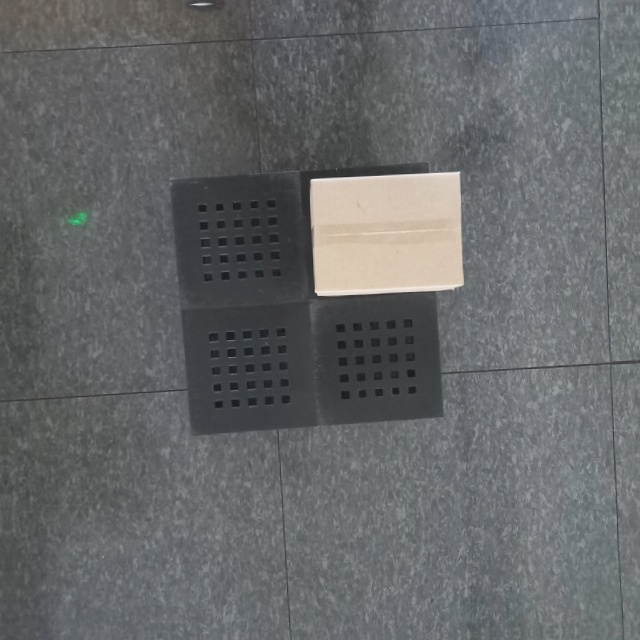box: (305, 166, 467, 299)
pallet: (162, 158, 454, 442)
